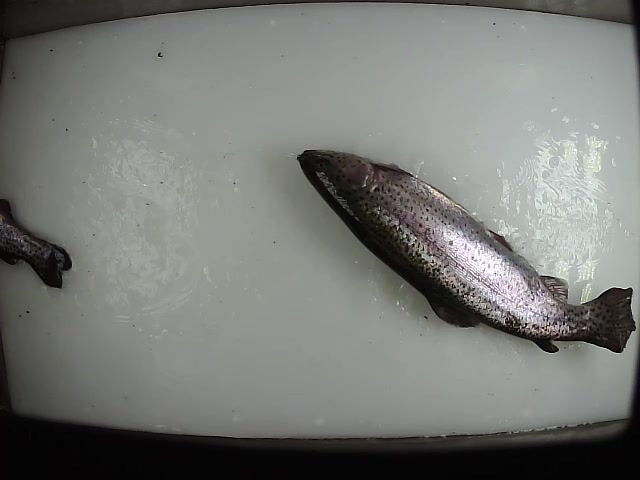Fish: (295, 149, 637, 354)
